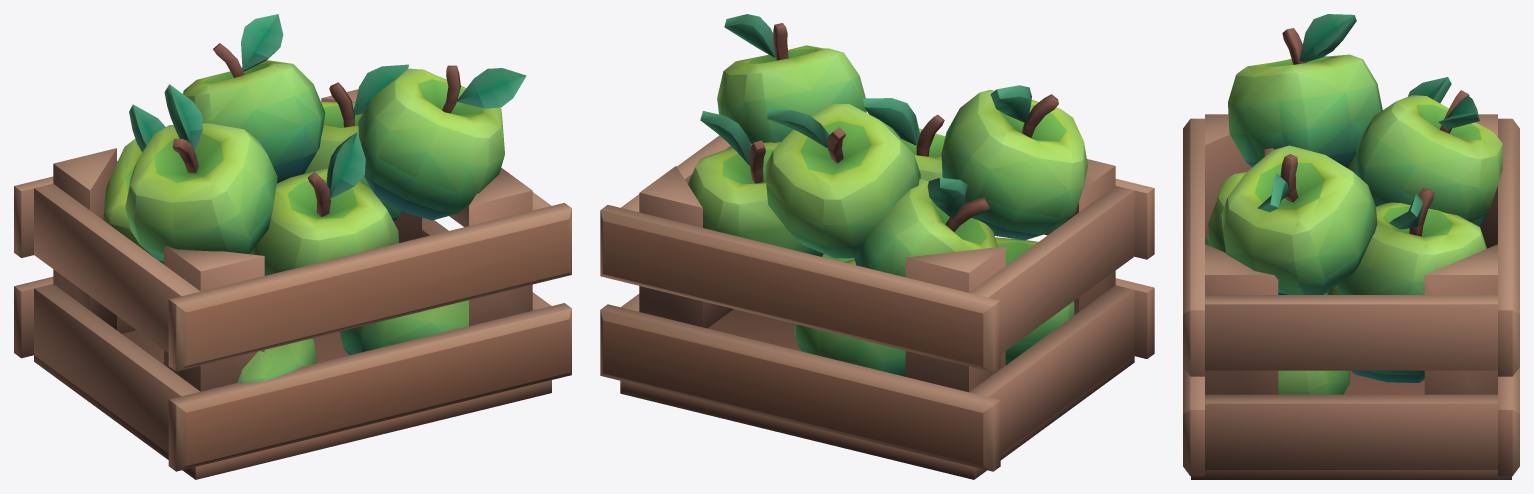
File: prop_crate_apples.glb
The picture shows the model from 3 angles, left to right: view 1: azimuth 30°, elevation 25°; view 2: azimuth 150°, elevation 25°; view 3: azimuth 270°, elevation 25°; orthographic projection.
Visible parts, largest first — view 1: refined; view 2: refined; view 3: refined.
Boxes of the visible parts, x1=… form: refined: x1=14, y1=14, x2=571, y2=479; refined: x1=600, y1=14, x2=1154, y2=479; refined: x1=1183, y1=14, x2=1519, y2=479.
Size of the model in its own units: 1.03 by 0.802 by 0.7657.
